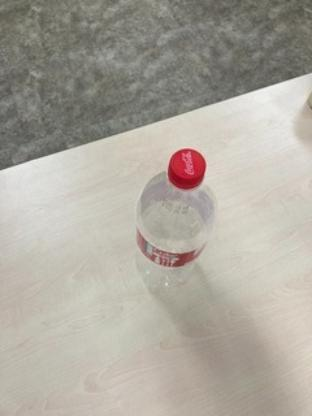Plastic Bottle: (134, 146, 219, 308)
